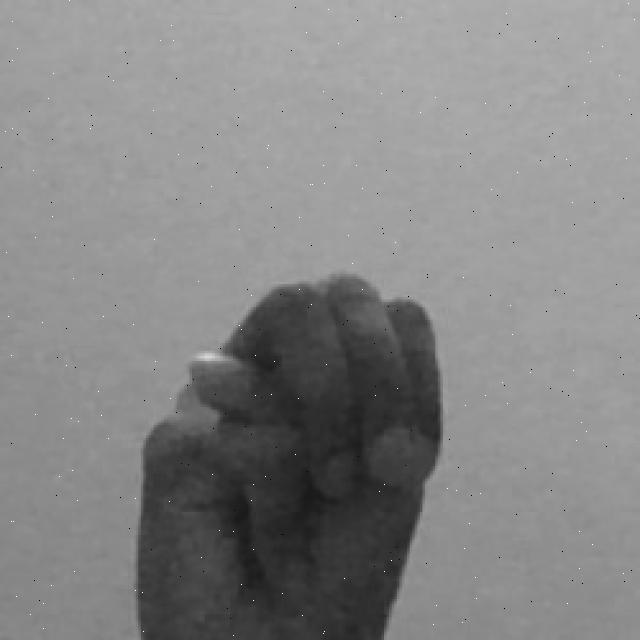M: (132, 269, 445, 640)
